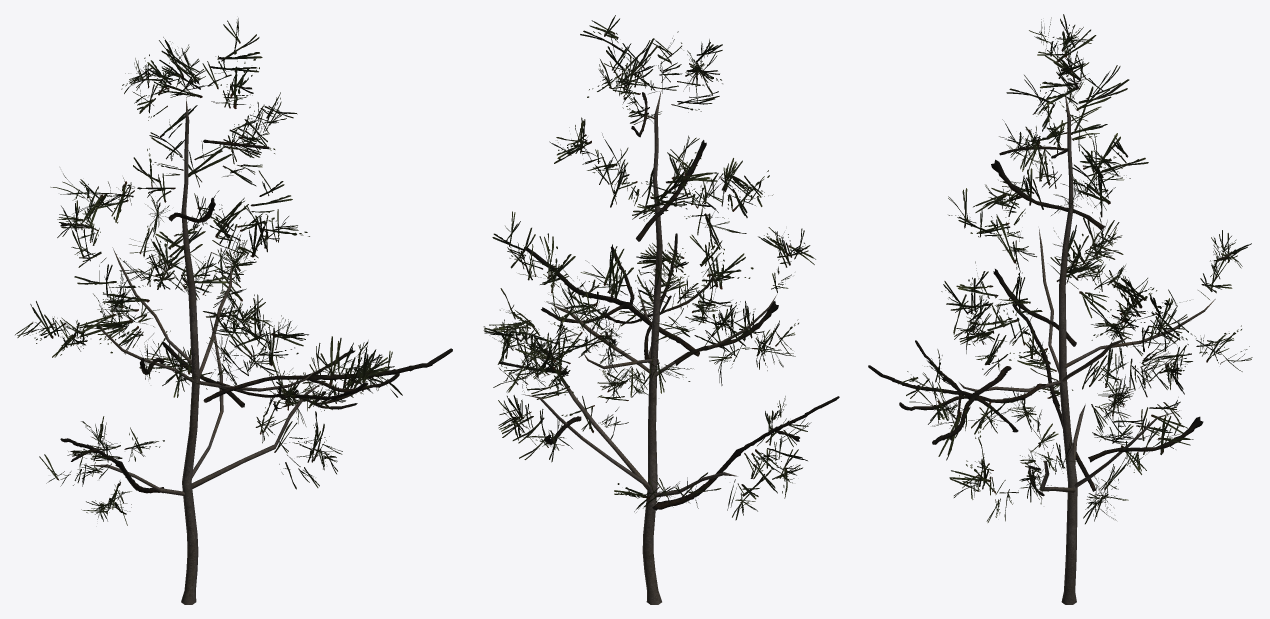
Rendered from pine_sapling_small_a.glb.
3 renders of one model, left to right at view 1: azimuth 30°, elevation 25°; view 2: azimuth 150°, elevation 25°; view 3: azimuth 270°, elevation 25°, orthographic.
Parts seen in each view (by area): view 1: pine_sapling_small_a; view 2: pine_sapling_small_a; view 3: pine_sapling_small_a.
Boxes of the visible parts, box(x1,y1,x2,y2) form: pine_sapling_small_a: box(15, 18, 452, 604); pine_sapling_small_a: box(483, 15, 839, 604); pine_sapling_small_a: box(868, 14, 1252, 604).
Bounding box in the file's own units: 0.8459 × 1.31 × 0.8017.
2 materials, 2 textured.
